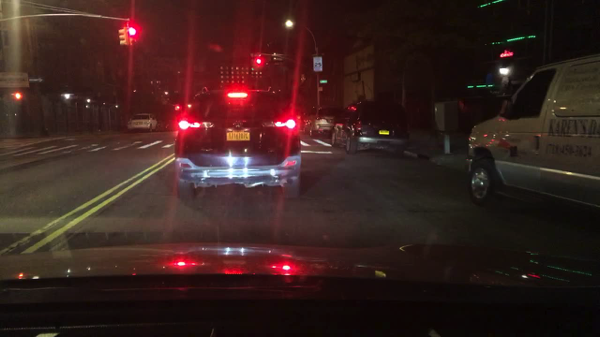car: (463, 48, 598, 224), (170, 84, 304, 201), (328, 96, 417, 159), (301, 105, 352, 139), (127, 112, 159, 132), (157, 119, 178, 132)
traffic light: (128, 23, 138, 46), (118, 29, 127, 48), (13, 90, 25, 101), (255, 54, 262, 66)
traffic sign: (312, 57, 322, 72), (30, 76, 46, 84), (318, 79, 327, 84), (301, 75, 306, 82), (318, 88, 323, 93)
